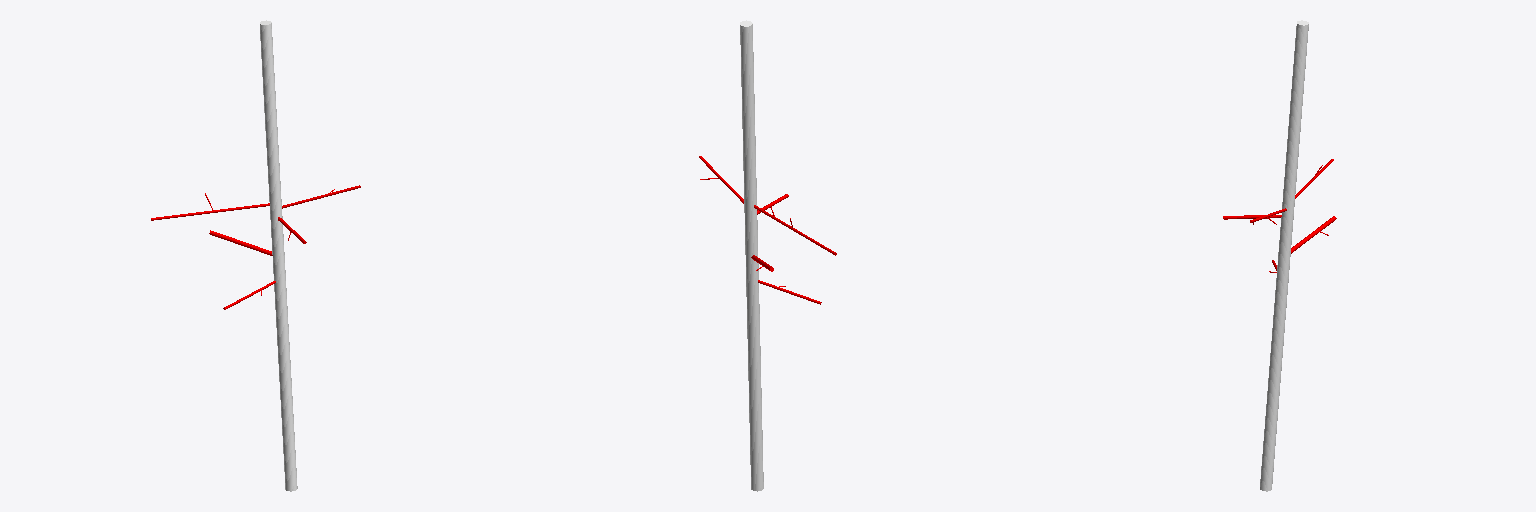
URDF robot description (tree_157.urdf):
<?xml version='1.0' encoding='UTF-8'?>
<robot name="tree_157.urdf">
  <link name="branch_0">
    <inertial>
      <origin xyz="0.0 0.0 0.0" rpy="0.0 -0.0 0.0"/>
      <mass value="0.1"/>
      <inertia ixx="0.001" ixy="0.0" ixz="0.0" iyy="0.001" iyz="0.0" izz="0.001"/>
    </inertial>
    <visual name="branch_0_visual">
      <geometry>
        <cylinder radius="0.1111315716058559" length="9.166409195836316"/>
      </geometry>
      <material name="branch_material"/>
      <origin xyz="-0.08137423055040786 0.3316650783380217 4.570463969532142" rpy="0.0 0.07458070032443255 1.811394332709132"/>
    </visual>
    <collision name="branch_0_collision">
      <geometry>
        <cylinder radius="0.1111315716058559" length="9.166409195836316"/>
      </geometry>
      <origin xyz="-0.08137423055040786 0.3316650783380217 4.570463969532142" rpy="0.0 0.07458070032443255 1.811394332709132"/>
    </collision>
  </link>
  <link name="branch_1">
    <inertial>
      <origin xyz="0.0 0.0 0.0" rpy="0.0 -0.0 0.0"/>
      <mass value="0.1"/>
      <inertia ixx="0.001" ixy="0.0" ixz="0.0" iyy="0.001" iyz="0.0" izz="0.001"/>
    </inertial>
    <visual name="branch_1_visual">
      <geometry>
        <cylinder radius="0.040234750470528206" length="1.3336077588799335"/>
      </geometry>
      <material name="semantic_material"/>
      <origin xyz="0.0 0.0 0.0" rpy="0.0 -0.0 0.0"/>
    </visual>
    <collision name="branch_1_collision">
      <geometry>
        <cylinder radius="0.040234750470528206" length="1.3336077588799335"/>
      </geometry>
      <origin xyz="0.0 0.0 0.0" rpy="0.0 -0.0 0.0"/>
    </collision>
  </link>
  <link name="branch_2">
    <inertial>
      <origin xyz="0.0 0.0 0.0" rpy="0.0 -0.0 0.0"/>
      <mass value="0.1"/>
      <inertia ixx="0.001" ixy="0.0" ixz="0.0" iyy="0.001" iyz="0.0" izz="0.001"/>
    </inertial>
    <visual name="branch_2_visual">
      <geometry>
        <cylinder radius="0.01" length="0.21640127623856945"/>
      </geometry>
      <material name="semantic_material"/>
      <origin xyz="0.0 0.0 0.0" rpy="0.0 -0.0 0.0"/>
    </visual>
    <collision name="branch_2_collision">
      <geometry>
        <cylinder radius="0.01" length="0.21640127623856945"/>
      </geometry>
      <origin xyz="0.0 0.0 0.0" rpy="0.0 -0.0 0.0"/>
    </collision>
  </link>
  <link name="branch_3">
    <inertial>
      <origin xyz="0.0 0.0 0.0" rpy="0.0 -0.0 0.0"/>
      <mass value="0.1"/>
      <inertia ixx="0.001" ixy="0.0" ixz="0.0" iyy="0.001" iyz="0.0" izz="0.001"/>
    </inertial>
    <visual name="branch_3_visual">
      <geometry>
        <cylinder radius="0.024725120968549317" length="1.299036352185474"/>
      </geometry>
      <material name="semantic_material"/>
      <origin xyz="0.0 0.0 0.0" rpy="0.0 -0.0 0.0"/>
    </visual>
    <collision name="branch_3_collision">
      <geometry>
        <cylinder radius="0.024725120968549317" length="1.299036352185474"/>
      </geometry>
      <origin xyz="0.0 0.0 0.0" rpy="0.0 -0.0 0.0"/>
    </collision>
  </link>
  <link name="branch_4">
    <inertial>
      <origin xyz="0.0 0.0 0.0" rpy="0.0 -0.0 0.0"/>
      <mass value="0.1"/>
      <inertia ixx="0.001" ixy="0.0" ixz="0.0" iyy="0.001" iyz="0.0" izz="0.001"/>
    </inertial>
    <visual name="branch_4_visual">
      <geometry>
        <cylinder radius="0.01" length="0.20747577569654072"/>
      </geometry>
      <material name="semantic_material"/>
      <origin xyz="0.0 0.0 0.0" rpy="0.0 -0.0 0.0"/>
    </visual>
    <collision name="branch_4_collision">
      <geometry>
        <cylinder radius="0.01" length="0.20747577569654072"/>
      </geometry>
      <origin xyz="0.0 0.0 0.0" rpy="0.0 -0.0 0.0"/>
    </collision>
  </link>
  <link name="branch_5">
    <inertial>
      <origin xyz="0.0 0.0 0.0" rpy="0.0 -0.0 0.0"/>
      <mass value="0.1"/>
      <inertia ixx="0.001" ixy="0.0" ixz="0.0" iyy="0.001" iyz="0.0" izz="0.001"/>
    </inertial>
    <visual name="branch_5_visual">
      <geometry>
        <cylinder radius="0.03231642305018557" length="1.1514290021691873"/>
      </geometry>
      <material name="semantic_material"/>
      <origin xyz="0.0 0.0 0.0" rpy="0.0 -0.0 0.0"/>
    </visual>
    <collision name="branch_5_collision">
      <geometry>
        <cylinder radius="0.03231642305018557" length="1.1514290021691873"/>
      </geometry>
      <origin xyz="0.0 0.0 0.0" rpy="0.0 -0.0 0.0"/>
    </collision>
  </link>
  <link name="branch_6">
    <inertial>
      <origin xyz="0.0 0.0 0.0" rpy="0.0 -0.0 0.0"/>
      <mass value="0.1"/>
      <inertia ixx="0.001" ixy="0.0" ixz="0.0" iyy="0.001" iyz="0.0" izz="0.001"/>
    </inertial>
    <visual name="branch_6_visual">
      <geometry>
        <cylinder radius="0.01" length="0.2026914693131304"/>
      </geometry>
      <material name="semantic_material"/>
      <origin xyz="0.0 0.0 0.0" rpy="0.0 -0.0 0.0"/>
    </visual>
    <collision name="branch_6_collision">
      <geometry>
        <cylinder radius="0.01" length="0.2026914693131304"/>
      </geometry>
      <origin xyz="0.0 0.0 0.0" rpy="0.0 -0.0 0.0"/>
    </collision>
  </link>
  <link name="branch_7">
    <inertial>
      <origin xyz="0.0 0.0 0.0" rpy="0.0 -0.0 0.0"/>
      <mass value="0.1"/>
      <inertia ixx="0.001" ixy="0.0" ixz="0.0" iyy="0.001" iyz="0.0" izz="0.001"/>
    </inertial>
    <visual name="branch_7_visual">
      <geometry>
        <cylinder radius="0.024805371077943547" length="2.3009114573799834"/>
      </geometry>
      <material name="semantic_material"/>
      <origin xyz="0.0 0.0 0.0" rpy="0.0 -0.0 0.0"/>
    </visual>
    <collision name="branch_7_collision">
      <geometry>
        <cylinder radius="0.024805371077943547" length="2.3009114573799834"/>
      </geometry>
      <origin xyz="0.0 0.0 0.0" rpy="0.0 -0.0 0.0"/>
    </collision>
  </link>
  <link name="branch_8">
    <inertial>
      <origin xyz="0.0 0.0 0.0" rpy="0.0 -0.0 0.0"/>
      <mass value="0.1"/>
      <inertia ixx="0.001" ixy="0.0" ixz="0.0" iyy="0.001" iyz="0.0" izz="0.001"/>
    </inertial>
    <visual name="branch_8_visual">
      <geometry>
        <cylinder radius="0.01" length="0.37058766260622356"/>
      </geometry>
      <material name="semantic_material"/>
      <origin xyz="0.0 0.0 0.0" rpy="0.0 -0.0 0.0"/>
    </visual>
    <collision name="branch_8_collision">
      <geometry>
        <cylinder radius="0.01" length="0.37058766260622356"/>
      </geometry>
      <origin xyz="0.0 0.0 0.0" rpy="0.0 -0.0 0.0"/>
    </collision>
  </link>
  <link name="branch_9">
    <inertial>
      <origin xyz="0.0 0.0 0.0" rpy="0.0 -0.0 0.0"/>
      <mass value="0.1"/>
      <inertia ixx="0.001" ixy="0.0" ixz="0.0" iyy="0.001" iyz="0.0" izz="0.001"/>
    </inertial>
    <visual name="branch_9_visual">
      <geometry>
        <cylinder radius="0.025362500442589156" length="1.594244141393069"/>
      </geometry>
      <material name="semantic_material"/>
      <origin xyz="0.0 0.0 0.0" rpy="0.0 -0.0 0.0"/>
    </visual>
    <collision name="branch_9_collision">
      <geometry>
        <cylinder radius="0.025362500442589156" length="1.594244141393069"/>
      </geometry>
      <origin xyz="0.0 0.0 0.0" rpy="0.0 -0.0 0.0"/>
    </collision>
  </link>
  <link name="branch_10">
    <inertial>
      <origin xyz="0.0 0.0 0.0" rpy="0.0 -0.0 0.0"/>
      <mass value="0.1"/>
      <inertia ixx="0.001" ixy="0.0" ixz="0.0" iyy="0.001" iyz="0.0" izz="0.001"/>
    </inertial>
    <visual name="branch_10_visual">
      <geometry>
        <cylinder radius="0.01" length="0.3540076246885098"/>
      </geometry>
      <material name="semantic_material"/>
      <origin xyz="0.0 0.0 0.0" rpy="0.0 -0.0 0.0"/>
    </visual>
    <collision name="branch_10_collision">
      <geometry>
        <cylinder radius="0.01" length="0.3540076246885098"/>
      </geometry>
      <origin xyz="0.0 0.0 0.0" rpy="0.0 -0.0 0.0"/>
    </collision>
  </link>
  <joint name="joint_0_1" type="fixed">
    <parent link="branch_0"/>
    <child link="branch_1"/>
    <axis xyz="1. 0. 0."/>
    <origin xyz="-0.5421231908924484 0.7847634698845531 4.73199972445114" rpy="0.1607951050725255 1.3192050587730428 2.530353107264266"/>
  </joint>
  <joint name="joint_0_3" type="fixed">
    <parent link="branch_0"/>
    <child link="branch_3"/>
    <axis xyz="1. 0. 0."/>
    <origin xyz="-0.7064814785956824 0.21324252070192204 3.9963124526714466" rpy="2.7507949274561687 1.3753555621372873 -0.2638406041118655"/>
  </joint>
  <joint name="joint_0_5" type="fixed">
    <parent link="branch_0"/>
    <child link="branch_5"/>
    <axis xyz="1. 0. 0."/>
    <origin xyz="-0.12366768813200969 -0.18593657262912056 5.322145509554069" rpy="2.7421035641278415 1.515648269240837 1.1213658248960354"/>
  </joint>
  <joint name="joint_0_7" type="fixed">
    <parent link="branch_0"/>
    <child link="branch_7"/>
    <axis xyz="1. 0. 0."/>
    <origin xyz="-1.1768767812703396 0.8040340585986598 5.525715670999168" rpy="2.312467108481009 1.4871210350795243 -1.185022726961731"/>
  </joint>
  <joint name="joint_0_9" type="fixed">
    <parent link="branch_0"/>
    <child link="branch_9"/>
    <axis xyz="1. 0. 0."/>
    <origin xyz="0.5983504580082211 0.06443486825841693 5.69181349709098" rpy="-0.22580378746831734 1.31374342443395 -0.6808496075281025"/>
  </joint>
  <joint name="joint_1_2" type="fixed">
    <parent link="branch_0"/>
    <child link="branch_2"/>
    <axis xyz="1. 0. 0."/>
    <origin xyz="-0.6521405941571278 1.0282727357996093 4.7560452176552825" rpy="-1.8607673145019146 0.34405923339747485 -0.48912086685266626"/>
  </joint>
  <joint name="joint_3_4" type="fixed">
    <parent link="branch_0"/>
    <child link="branch_4"/>
    <axis xyz="1. 0. 0."/>
    <origin xyz="-0.5536969601862911 0.1511214114158982 4.0228260697351885" rpy="1.6786217427445265 -0.1451565798061569 -0.5346147146857427"/>
  </joint>
  <joint name="joint_5_6" type="fixed">
    <parent link="branch_0"/>
    <child link="branch_6"/>
    <axis xyz="1. 0. 0."/>
    <origin xyz="-0.1650679992469428 -0.22283825601491977 5.2270236605408025" rpy="-2.7402778847209084 0.016678588347642416 1.550051499433255"/>
  </joint>
  <joint name="joint_7_8" type="fixed">
    <parent link="branch_0"/>
    <child link="branch_8"/>
    <axis xyz="1. 0. 0."/>
    <origin xyz="-1.2037487192709666 0.9070254280039284 5.675596060826503" rpy="-0.549559788396389 -0.3276900905908912 -0.191689632531026"/>
  </joint>
  <joint name="joint_9_10" type="fixed">
    <parent link="branch_0"/>
    <child link="branch_10"/>
    <axis xyz="1. 0. 0."/>
    <origin xyz="0.8789587376211357 0.09835161817005851 5.7188867182453595" rpy="1.6354473737594268 0.32075829032564557 2.1799139111545145"/>
  </joint>
  <material name="branch_material">
    <color rgba="1. 1. 1. 1."/>
  </material>
  <material name="semantic_material">
    <color rgba="1. 0. 0. 1."/>
  </material>
</robot>

--- Render facts (derived) ---
3 views of the same robot in one strip: view 1: azimuth 30°, elevation 25°; view 2: azimuth 150°, elevation 25°; view 3: azimuth 270°, elevation 25° (orthographic).
Robot: tree_157.urdf — 11 links, 10 joints (10 fixed); root link branch_0; default pose: every joint at zero.
Links seen in each view (by area): view 1: branch_0; view 2: branch_0; view 3: branch_0.
Link boxes in pixels (x1,y1,x2,y2): branch_0: [260, 20, 297, 491]; branch_0: [740, 20, 763, 491]; branch_0: [1260, 20, 1308, 491].
Size in the robot's own frame: 3.57 by 2.03 by 9.16 metres.
Geometry: primitives only (box / cylinder / sphere), no mesh files.
